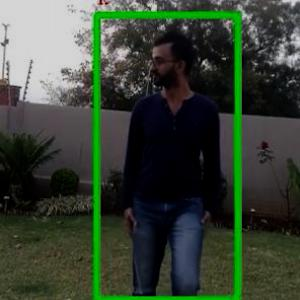follow: (114, 26, 227, 297)
